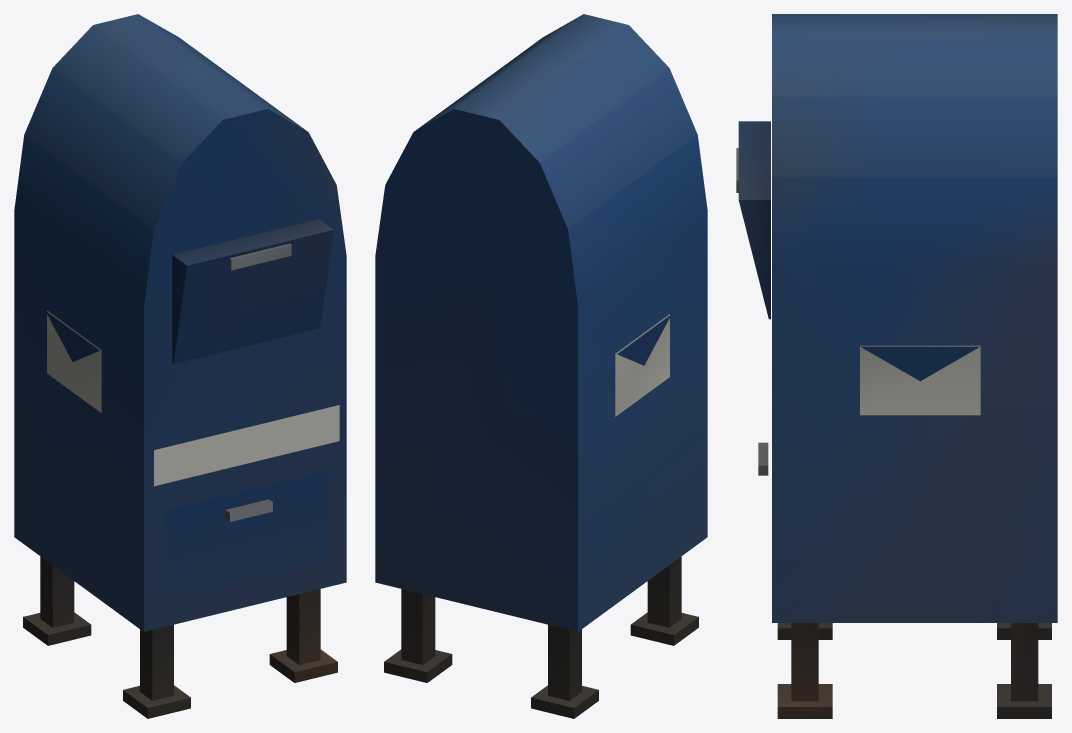
The model's file is mailbox.glb.
3 renders of one model, left to right at view 1: azimuth 30°, elevation 25°; view 2: azimuth 150°, elevation 25°; view 3: azimuth 270°, elevation 25°, orthographic. The views are drawn at different scales.
Visible parts, largest first — view 1: Mailbox; view 2: Mailbox; view 3: Mailbox.
Boxes of the visible parts, x1=… form: Mailbox: x1=14, y1=14, x2=346, y2=718; Mailbox: x1=375, y1=14, x2=707, y2=718; Mailbox: x1=736, y1=14, x2=1057, y2=718.
Size of the model in its own units: 0.488 by 1.29 by 0.585.
